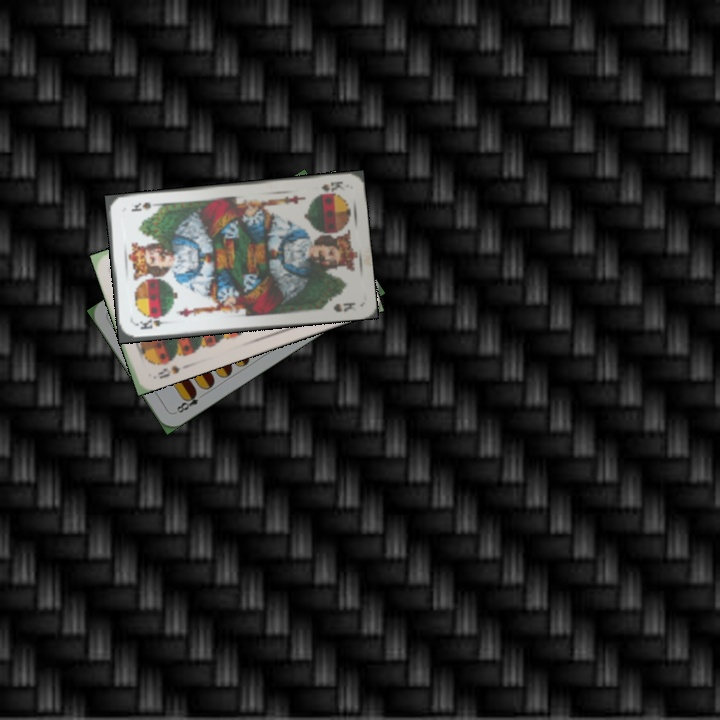E8: (171, 387, 207, 416)
S8: (154, 361, 183, 382)
SK: (132, 315, 173, 332), (315, 177, 346, 197)
